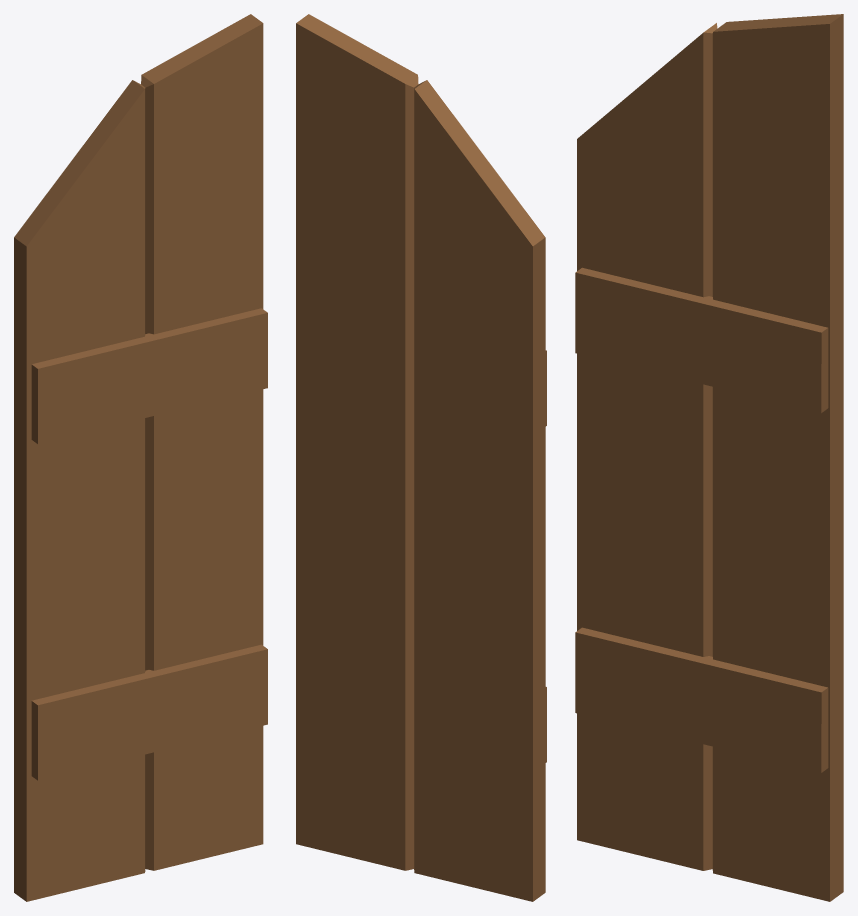
The model's file is Castle_gate_3_1_mat.fbx.
The picture shows the model from 3 angles, left to right: view 1: azimuth 30°, elevation 25°; view 2: azimuth 150°, elevation 25°; view 3: azimuth 330°, elevation 25°; orthographic projection. The views are drawn at different scales.
Parts seen in each view (by area): view 1: Castle_gate_3_1_mat; view 2: Castle_gate_3_1_mat; view 3: Castle_gate_3_1_mat.
Part boxes in pixels (x1,y1,x2,y2): Castle_gate_3_1_mat: (14,14,267,901); Castle_gate_3_1_mat: (296,14,546,901); Castle_gate_3_1_mat: (575,14,843,901).
Size of the model in its own units: 0.6265 by 2.08 by 0.0865.
